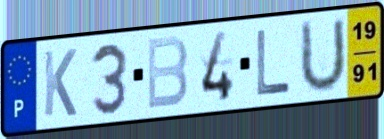3: (88, 39, 129, 118)
4: (198, 30, 236, 105)
B: (145, 34, 191, 113)
K: (41, 47, 79, 120)
L: (254, 27, 292, 97)
U: (297, 14, 348, 97)
